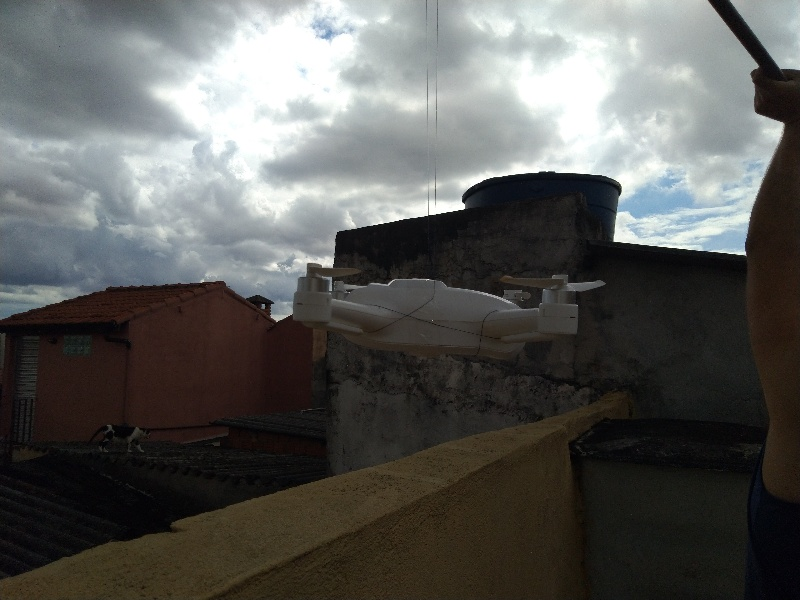drone: (281, 252, 613, 363)
